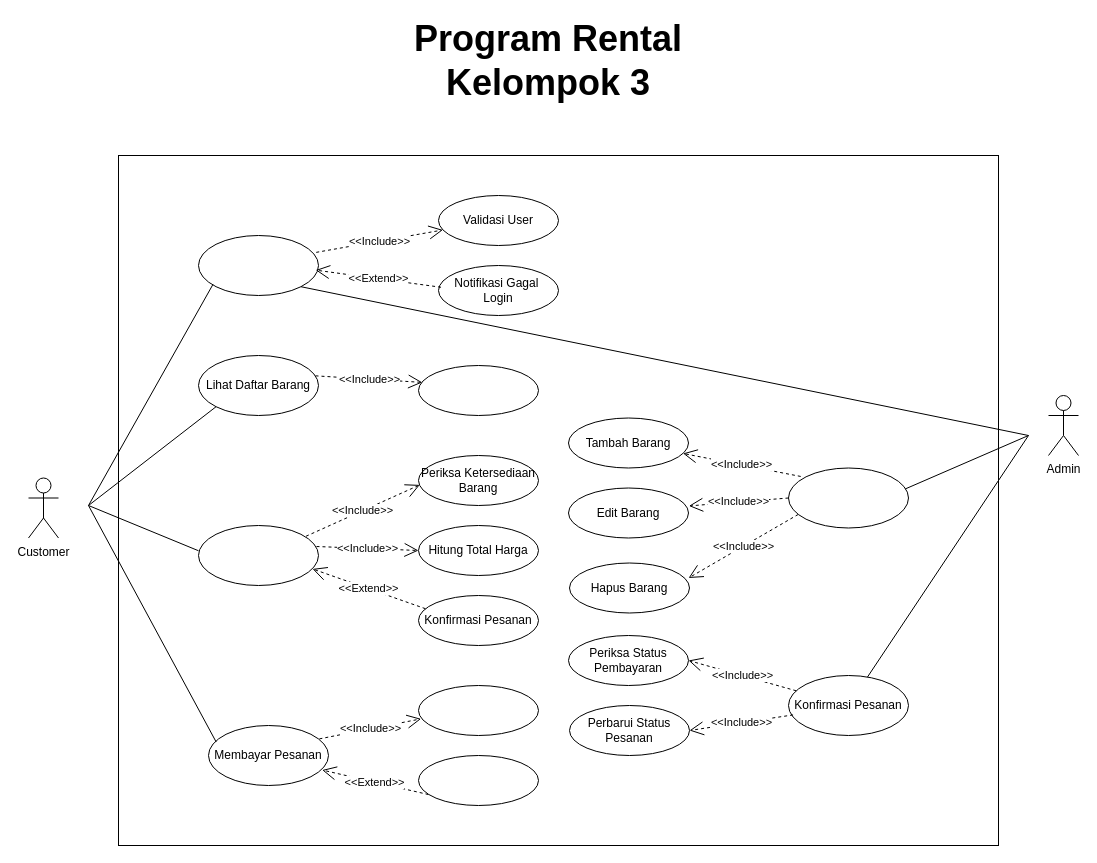
The diagram is 1097 pixels wide and 863 high, and some of its shapes have lost their labels. The shapes that lost their labels are listed below. From the top down, each one's centre as x and y in pixels, then its label:
point 258,265: Login
point 478,390: Lihat Detail Barang
point 848,497: Kelola Data Barang
point 258,555: Memesan Barang
point 478,710: Catat Transaksi Pembayaran
point 478,780: Kirim Bukti Pembayaran
